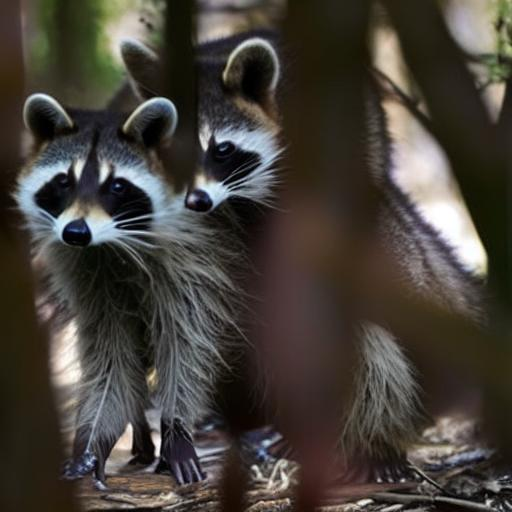raccoon: (7, 82, 269, 448), (111, 21, 403, 231)
